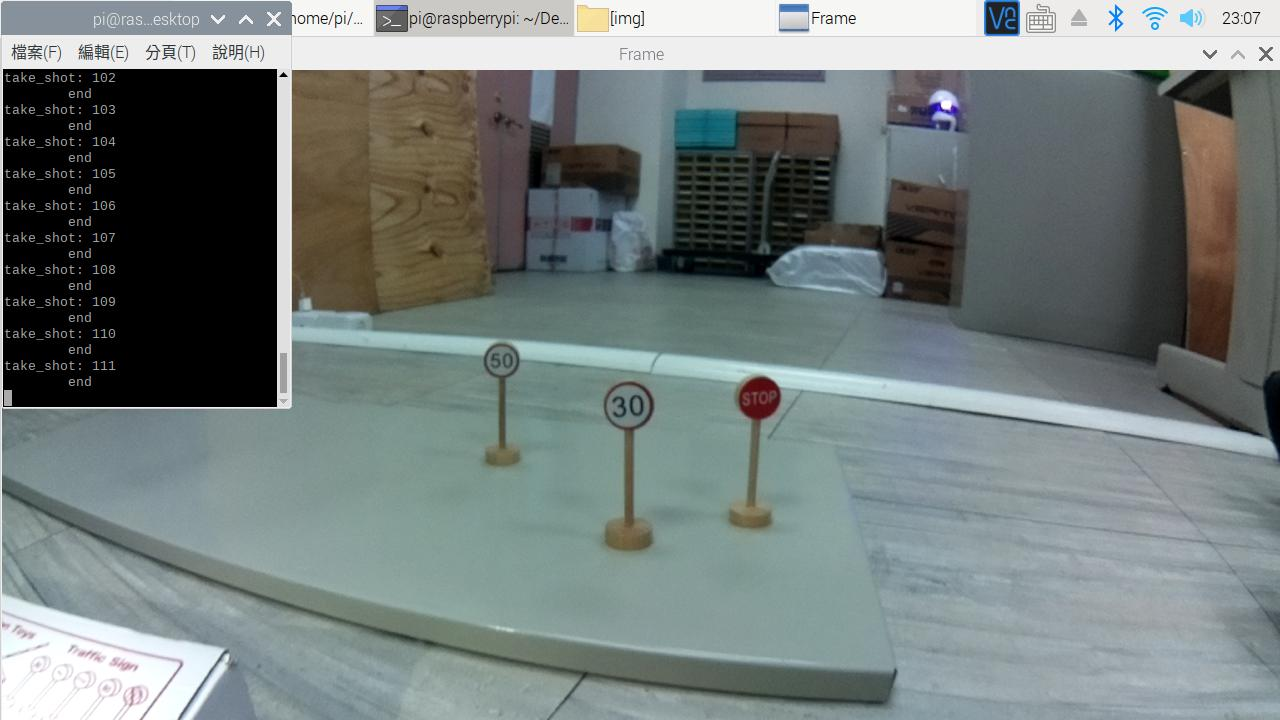Speed30: (598, 378, 668, 440)
Speed50: (473, 339, 531, 388)
Stop: (726, 368, 789, 436)
